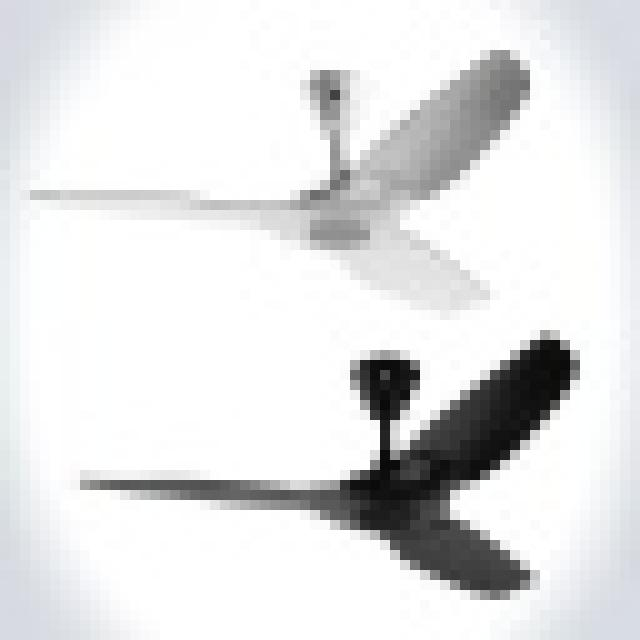Bulb: (52, 346, 640, 632), (61, 85, 546, 317)
